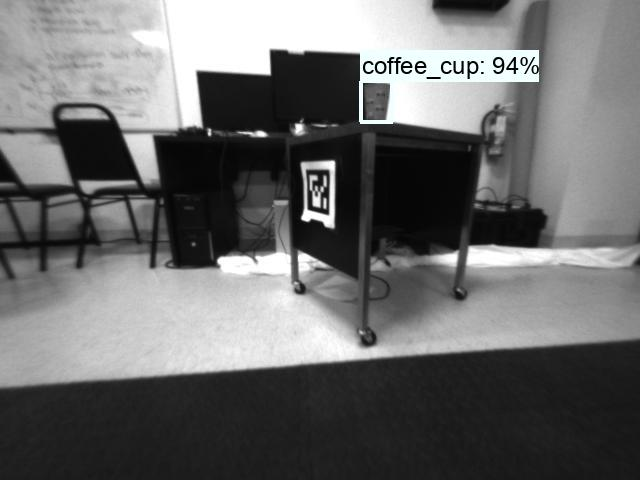coffee_cup: (359, 81, 393, 120)
